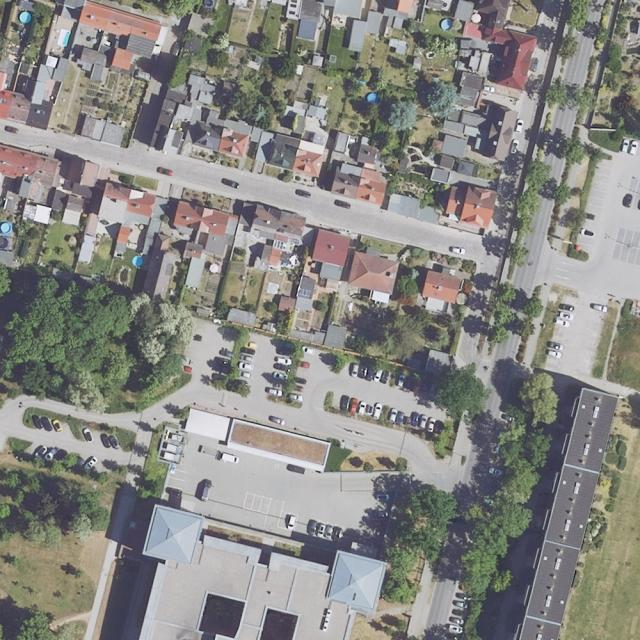ST: (299, 288, 311, 296)
